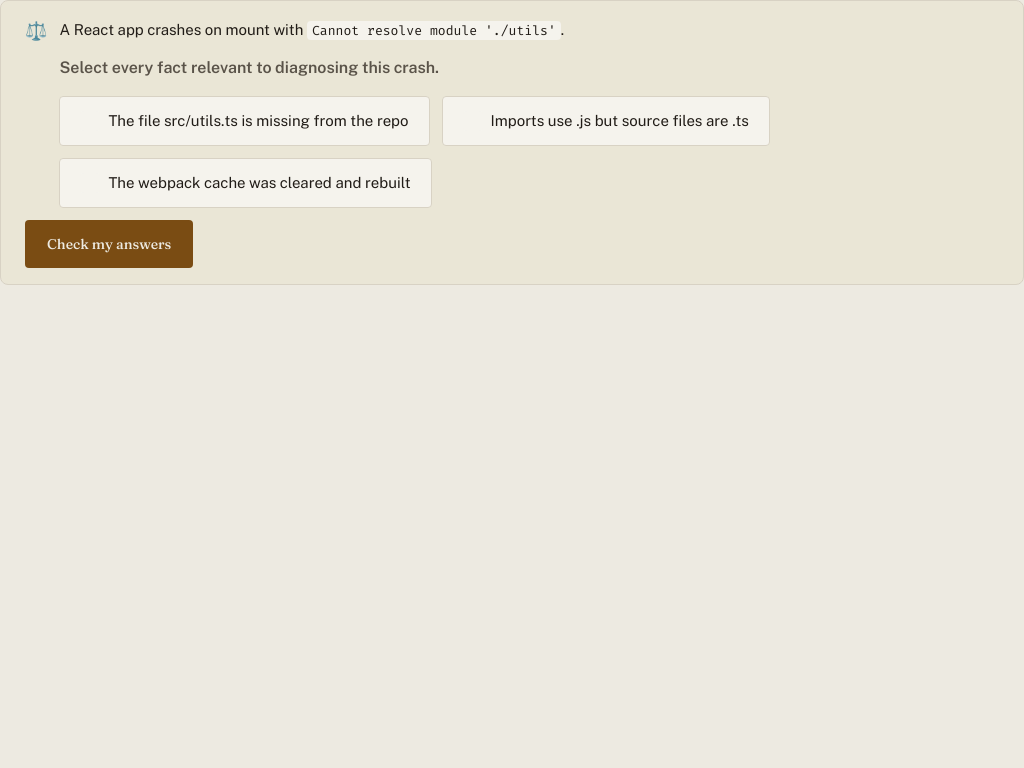
it: EvidenceStack › does not flag an inapplicable, unselected item as incorrect
This screenshot has width=1024, height=768.
Click the checkbox labelled "The file src/utils.ts is missing from the repo" at (245, 121), box [60,96,430,146]
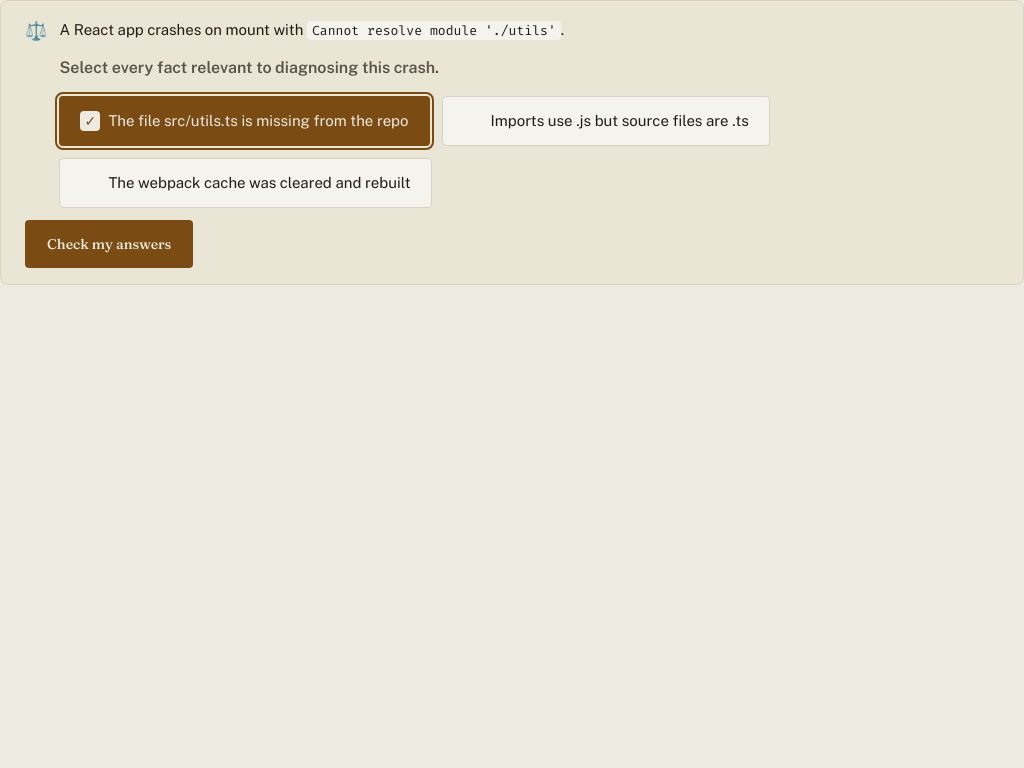
Click the checkbox labelled "Imports use .js but source files are .ts" at (606, 121), box [442,96,770,146]
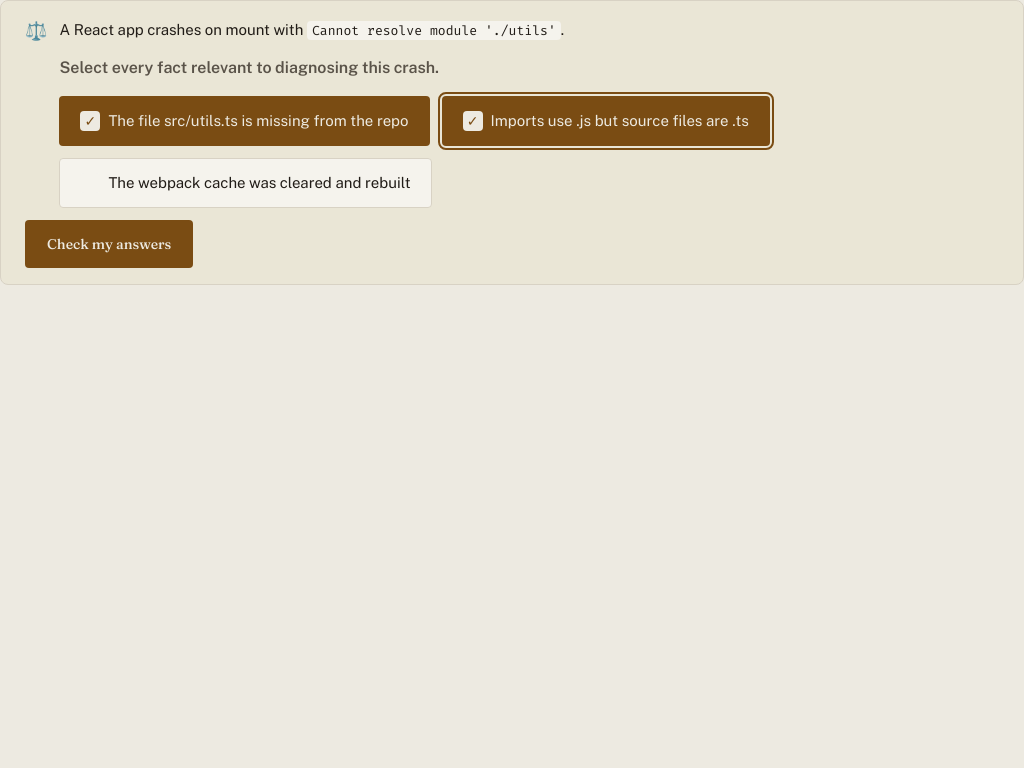
Click the button "Check my answers" at (109, 244), box [25,220,193,268]
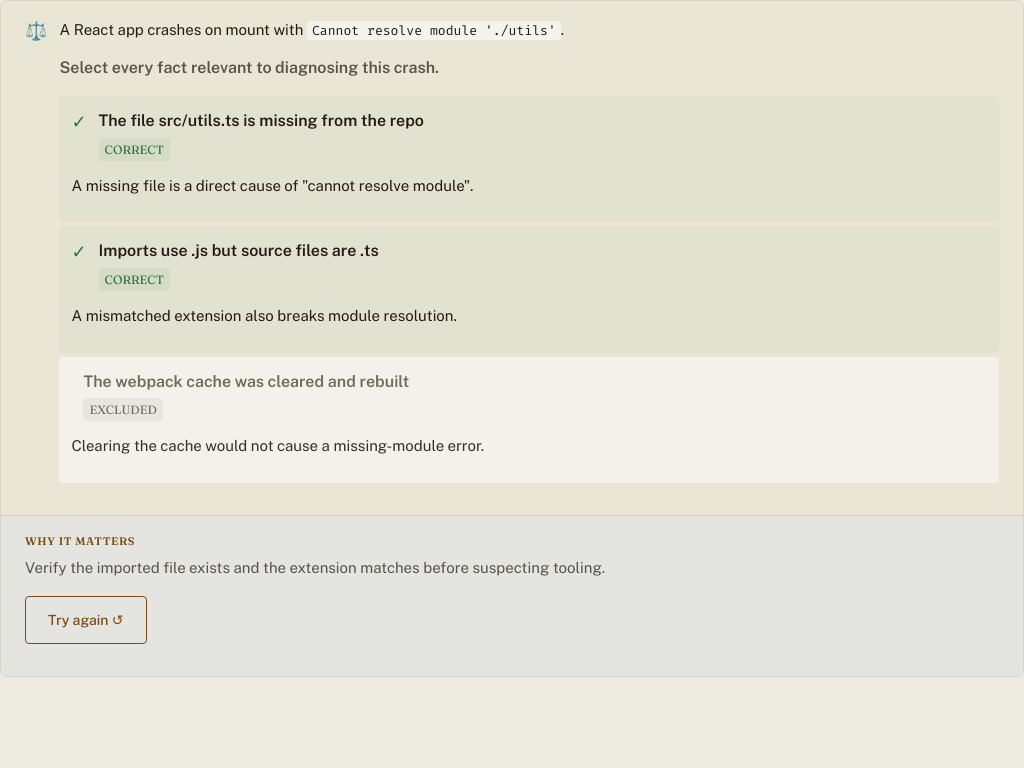
Now the text "EXCLUDED" is shown, box [84,398,163,422]
